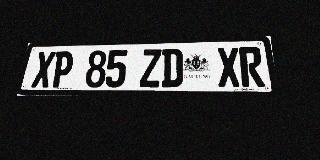5: (105, 50, 128, 87)
8: (84, 50, 108, 87)
D: (161, 48, 182, 87)
P: (50, 51, 75, 88)
R: (239, 47, 265, 87)
X: (217, 47, 241, 87), (31, 51, 56, 88)
Z: (140, 49, 161, 87)
